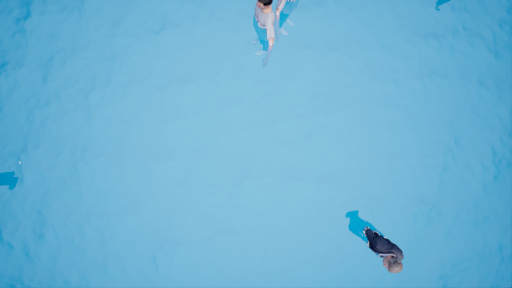person: (333, 216, 418, 273), (236, 1, 275, 64), (267, 1, 310, 38)
